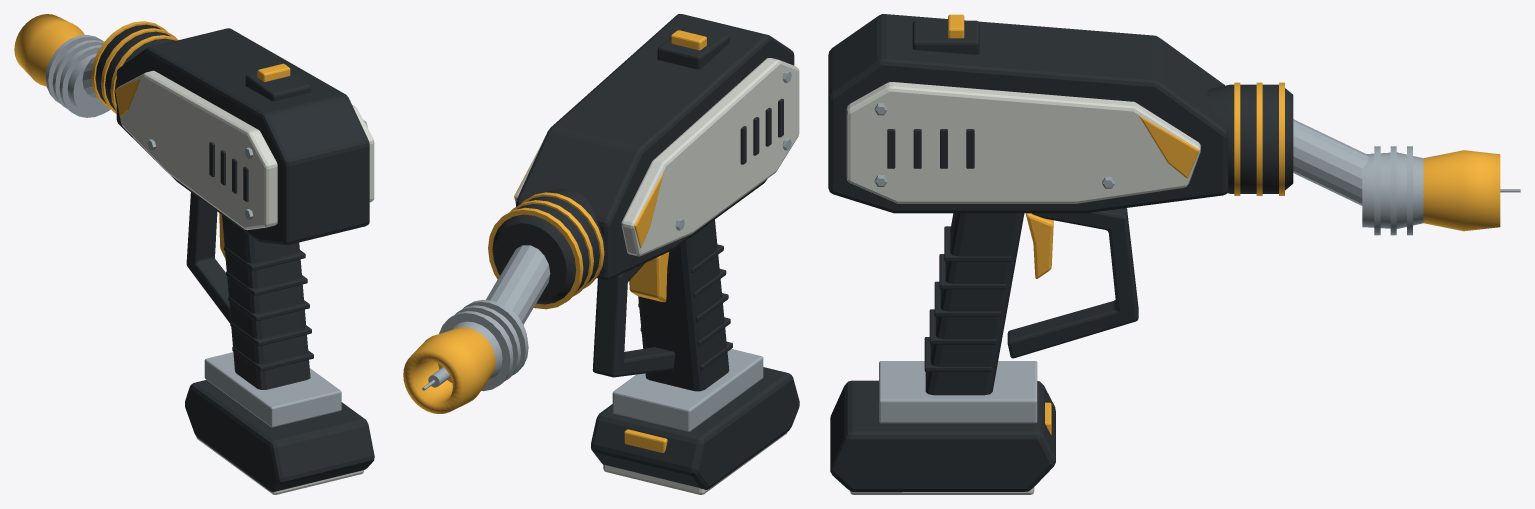
File: VF_Welder.glb
3 renders of one model, left to right at view 1: azimuth 30°, elevation 25°; view 2: azimuth 150°, elevation 25°; view 3: azimuth 270°, elevation 25°, orthographic. The views are drawn at different scales.
Parts seen in each view (by area): view 1: VF_Welder_Body, VF_Welder_Nozzle; view 2: VF_Welder_Body, VF_Welder_Nozzle, VF_Welder_Trigger.001; view 3: VF_Welder_Body, VF_Welder_Nozzle, VF_Welder_Trigger.001.
Part boxes in pixels (x1,y1,x2,y2): VF_Welder_Body: (91, 21, 374, 494); VF_Welder_Nozzle: (14, 14, 110, 117); VF_Welder_Body: (488, 14, 799, 494); VF_Welder_Nozzle: (403, 245, 550, 413); VF_Welder_Trigger.001: (629, 252, 669, 302); VF_Welder_Body: (828, 14, 1293, 494); VF_Welder_Nozzle: (1293, 119, 1520, 235); VF_Welder_Trigger.001: (1026, 213, 1053, 278).
Size of the model in its own units: 0.0785 by 0.244 by 0.341.
